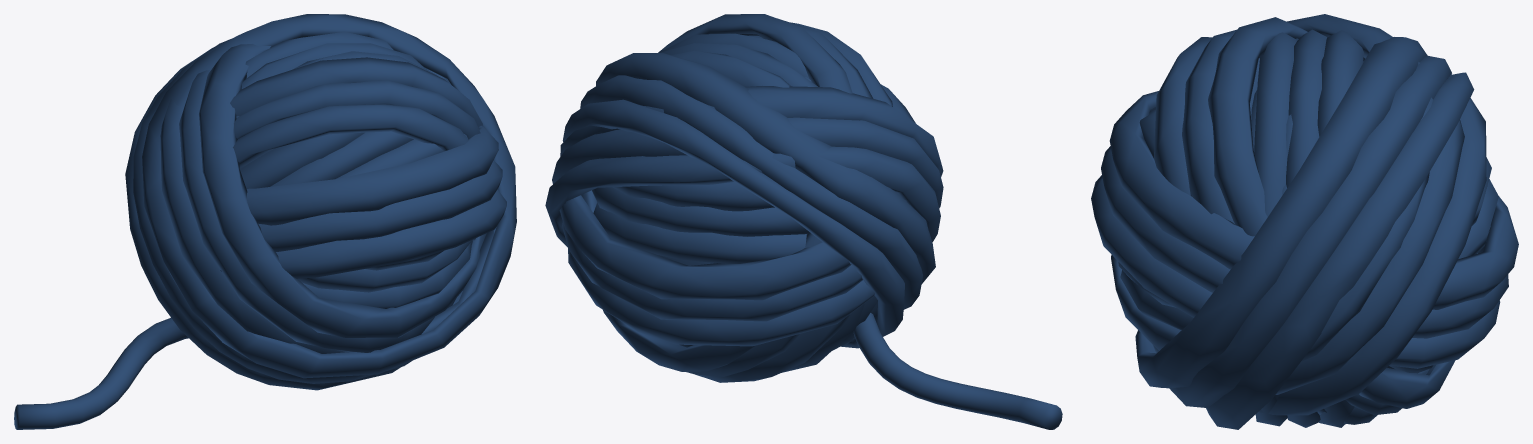
File: yarn.fbx
3 views of the same model, side by side, from view 1: azimuth 30°, elevation 25°; view 2: azimuth 150°, elevation 25°; view 3: azimuth 270°, elevation 25° (orthographic). The views are drawn at different scales.
Visible parts, largest first — view 1: włóczka; view 2: włóczka; view 3: włóczka.
Boxes of the visible parts, x1,y1,x2,y2 form: włóczka: [14, 14, 516, 429]; włóczka: [545, 14, 1062, 429]; włóczka: [1091, 14, 1518, 429].
Size of the model in its own units: 305 by 192 by 203.
